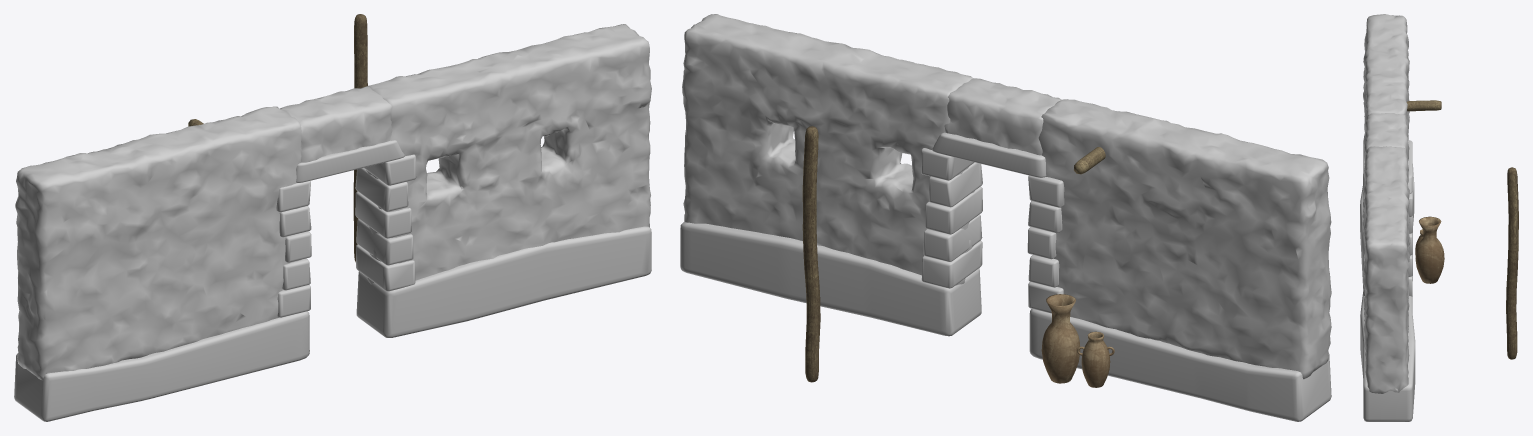
Rendered from ModularAncientHouse.fbx.
The picture shows the model from 3 angles, left to right: view 1: azimuth 30°, elevation 25°; view 2: azimuth 150°, elevation 25°; view 3: azimuth 270°, elevation 25°; orthographic projection. The views are drawn at different scales.
Parts seen in each view (by area): view 1: Wall_01, Wall_02, LargeBlock_02, LargeBlock_01, SmallWall, Block_06, Block_11, Block_09, Block_10, Block_08, Pole_01, Block_07 (+5 smaller); view 2: Wall_01, Wall_02, LargeBlock_02, LargeBlock_01, SmallWall, Pole_01, Pot_01, Block_06, Block_11, Block_09, Block_10, Block_08 (+7 smaller); view 3: Wall_02, Wall_01, LargeBlock_02, Pole_01, SmallWall, Pot_01, LargeBlock_01, Pole_02, Block_06.
Boxes of the visible parts, x1,y1,x2,y2 form: Wall_01: (15, 106, 301, 380); Wall_02: (365, 24, 651, 284); LargeBlock_02: (356, 226, 651, 337); LargeBlock_01: (14, 311, 309, 421); SmallWall: (280, 86, 392, 162); Block_06: (296, 140, 404, 182); Block_11: (356, 244, 415, 291); Block_09: (355, 191, 411, 238); Block_10: (356, 219, 413, 265); Block_08: (355, 168, 408, 211); Pole_01: (353, 14, 367, 262); Block_07: (363, 154, 416, 185); Wall_01: (1038, 99, 1331, 379); Wall_02: (682, 14, 974, 285); LargeBlock_02: (680, 222, 981, 336); LargeBlock_01: (1029, 309, 1331, 421); SmallWall: (944, 78, 1061, 155); Pole_01: (802, 126, 820, 382); Pot_01: (1041, 294, 1080, 383); Block_06: (932, 132, 1046, 177); Block_11: (921, 240, 982, 288); Block_09: (925, 186, 982, 234); Block_10: (923, 214, 982, 261); Block_08: (929, 162, 982, 207); Wall_02: (1362, 146, 1410, 393); Wall_01: (1363, 14, 1409, 142); LargeBlock_02: (1360, 292, 1415, 421); Pole_01: (1506, 167, 1518, 359); SmallWall: (1363, 113, 1409, 164); Pot_01: (1415, 216, 1444, 283); LargeBlock_01: (1360, 164, 1414, 288); Pole_02: (1406, 100, 1441, 111); Block_06: (1363, 140, 1412, 193).
Bounding box in the file's own units: 882 × 257 × 342.
